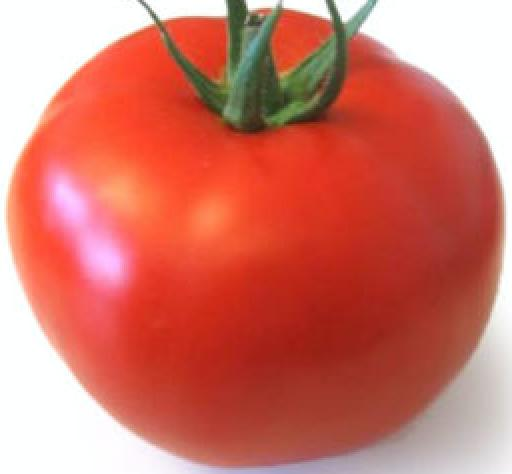tomato: (12, 25, 507, 461)
